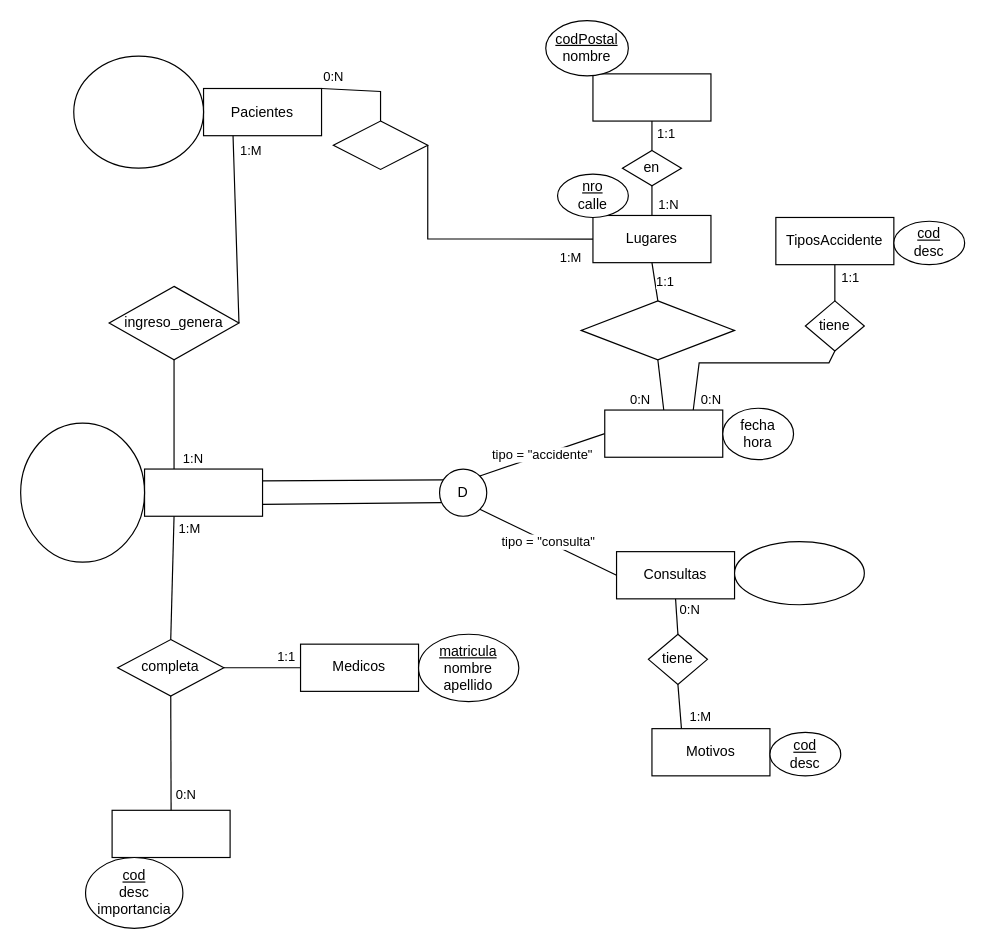
This 985x950 diagram has some shape labels left out. The shapes that lost their labels are listed below. From the top down, each one's centre as x and y in pixels, then its label:
At [138,111]: "nroHC nombre apellido tel dni fechaNac".
At [651,97]: "Localidades".
At [380,144]: "vive".
At [657,330]: "accidente_ocurre".
At [663,433]: "Accidentes".
At [82,492]: "cod fechaIng horaIng horaAten tratamiento fechaRet destino causa".
At [203,492]: "TarjetasGuardia".
At [798,572]: "tipoIngreso nombreAcom apellidoAcom".
At [170,833]: "Diagnosticos".
